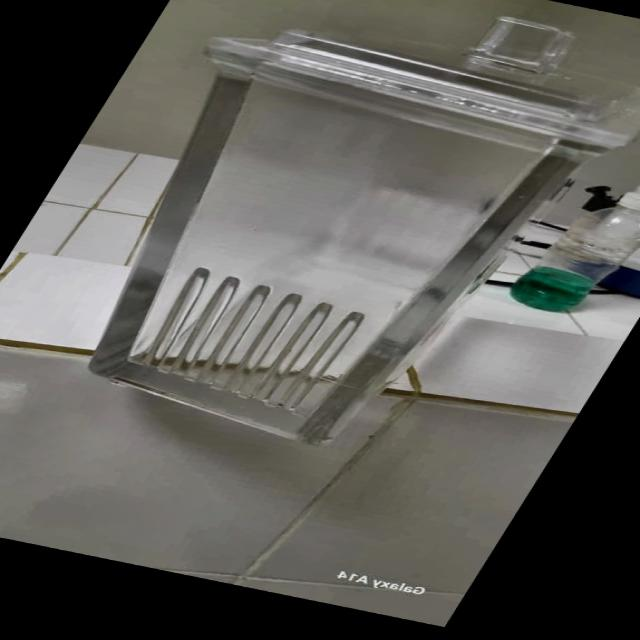TLC Tank: (0, 0, 640, 476)
